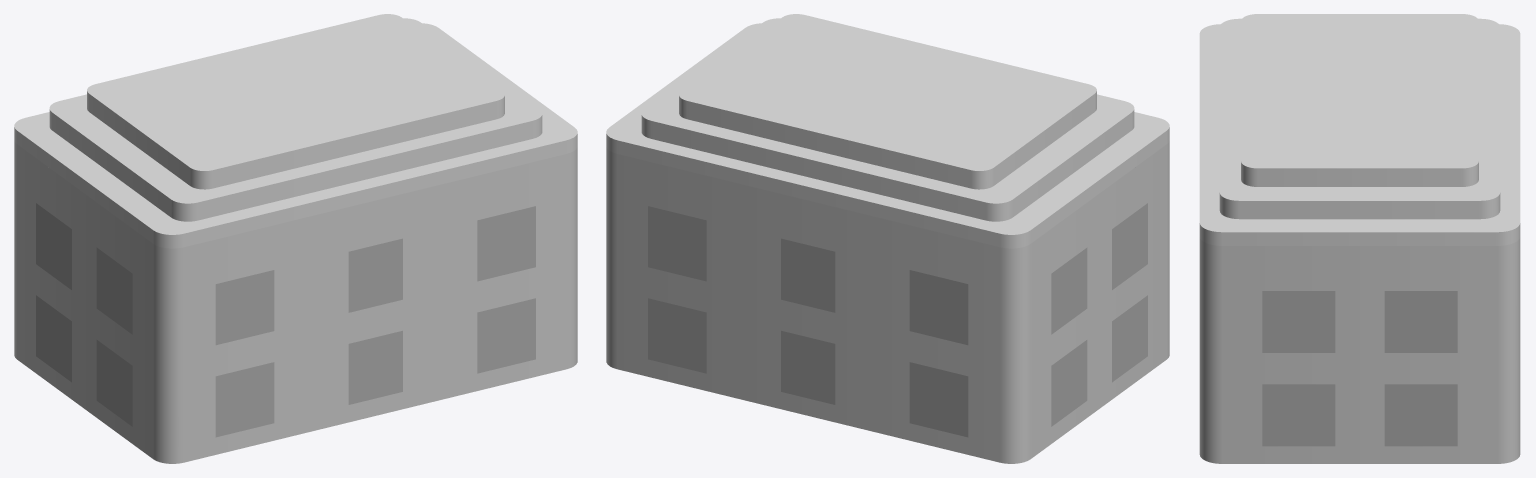
File: House D.fbx
3 renders of one model, left to right at view 1: azimuth 30°, elevation 25°; view 2: azimuth 150°, elevation 25°; view 3: azimuth 270°, elevation 25°, orthographic.
Visible parts, largest first — view 1: House D, House D Roof; view 2: House D, House D Roof; view 3: House D Roof, House D.
Part boxes in pixels (left/top/right/bottom): House D: left=14, top=141, right=577, bottom=463; House D Roof: left=14, top=14, right=577, bottom=248; House D: left=606, top=141, right=1169, bottom=463; House D Roof: left=606, top=14, right=1169, bottom=248; House D Roof: left=1199, top=14, right=1520, bottom=245; House D: left=1199, top=237, right=1520, bottom=463.
Bounding box in the file's own units: 894 × 536 × 584.
